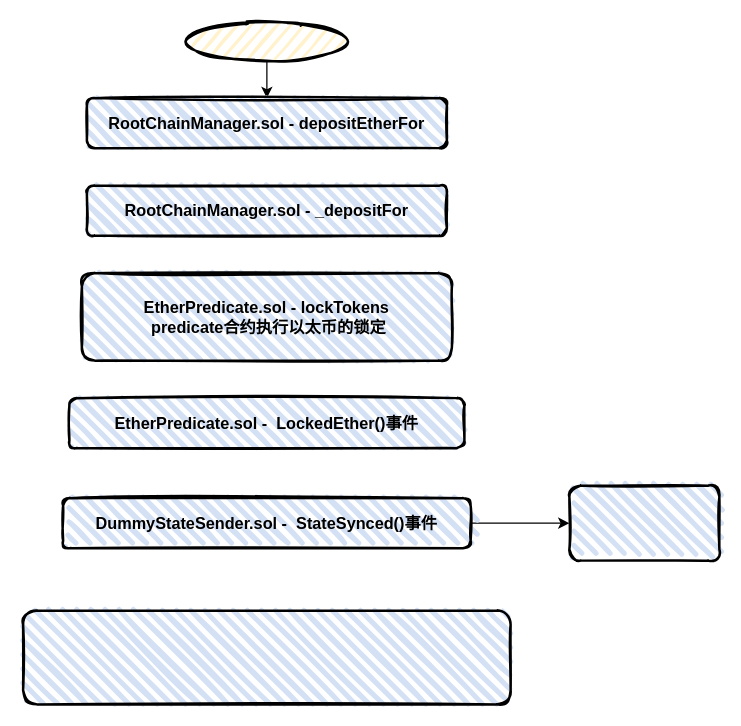
Image size: 741x726. Some labels were removed from this diagram. The centre of each missing label's shape, as x and y in pixels:
"heimdall处理" belongs at (644,522).
"RootChainManager.sol typeToPredicate[tokenToType[ETHER_ADDRESS]].call 以太币扣除" belongs at (266,657).
"开始" belongs at (266,41).
